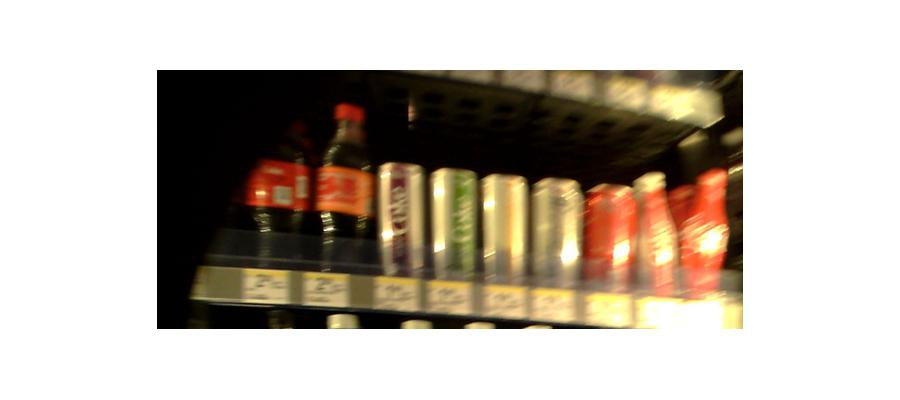bottle: (253, 115, 314, 264), (320, 100, 370, 275), (680, 165, 730, 298), (528, 176, 583, 291), (374, 157, 424, 278), (583, 183, 635, 295), (636, 171, 679, 304), (429, 169, 478, 282), (484, 169, 529, 288)
